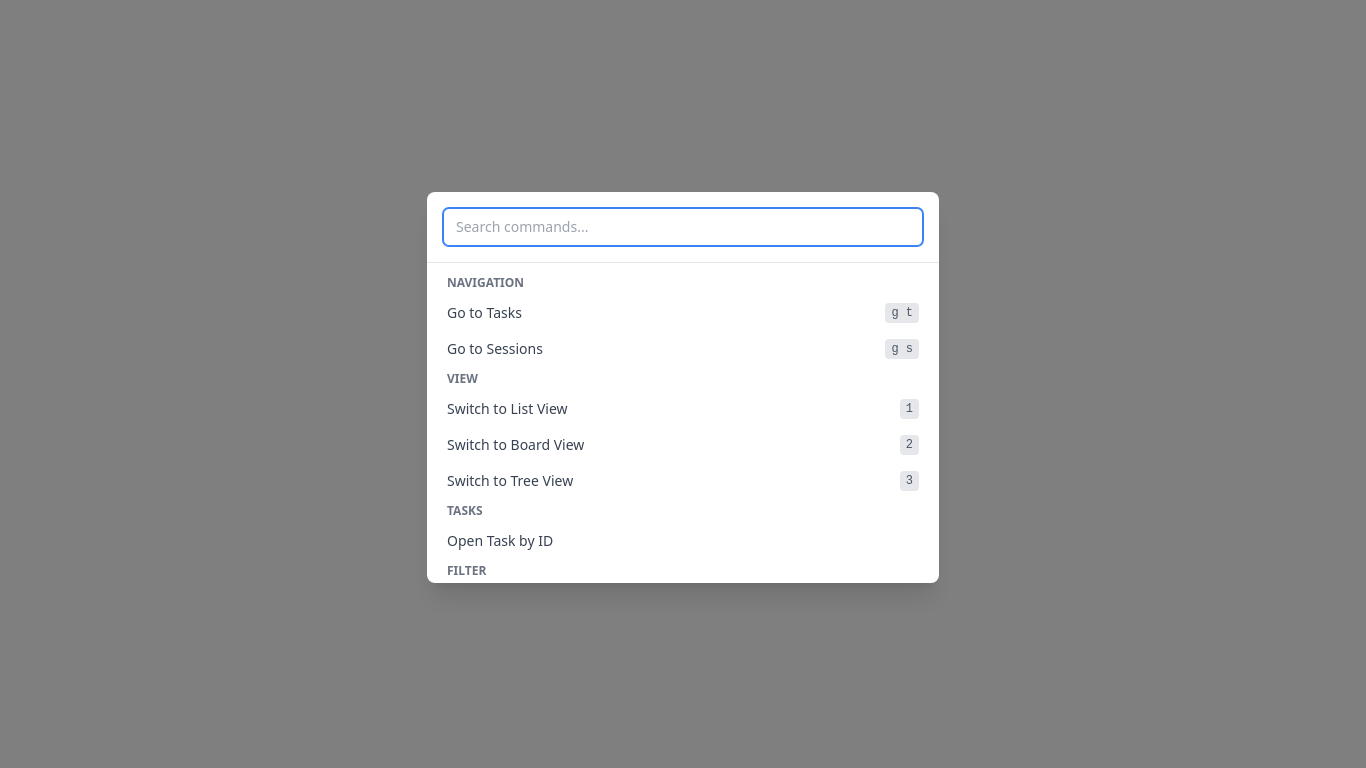
Test: CommandPalette › Fuzzy Search › shows empty state when no matches
This screenshot has width=1366, height=768.
Type "zzzznonexistent" into the dropdown.
click(683, 227); type("zzzznonexistent")  # box [443,208,923,246]
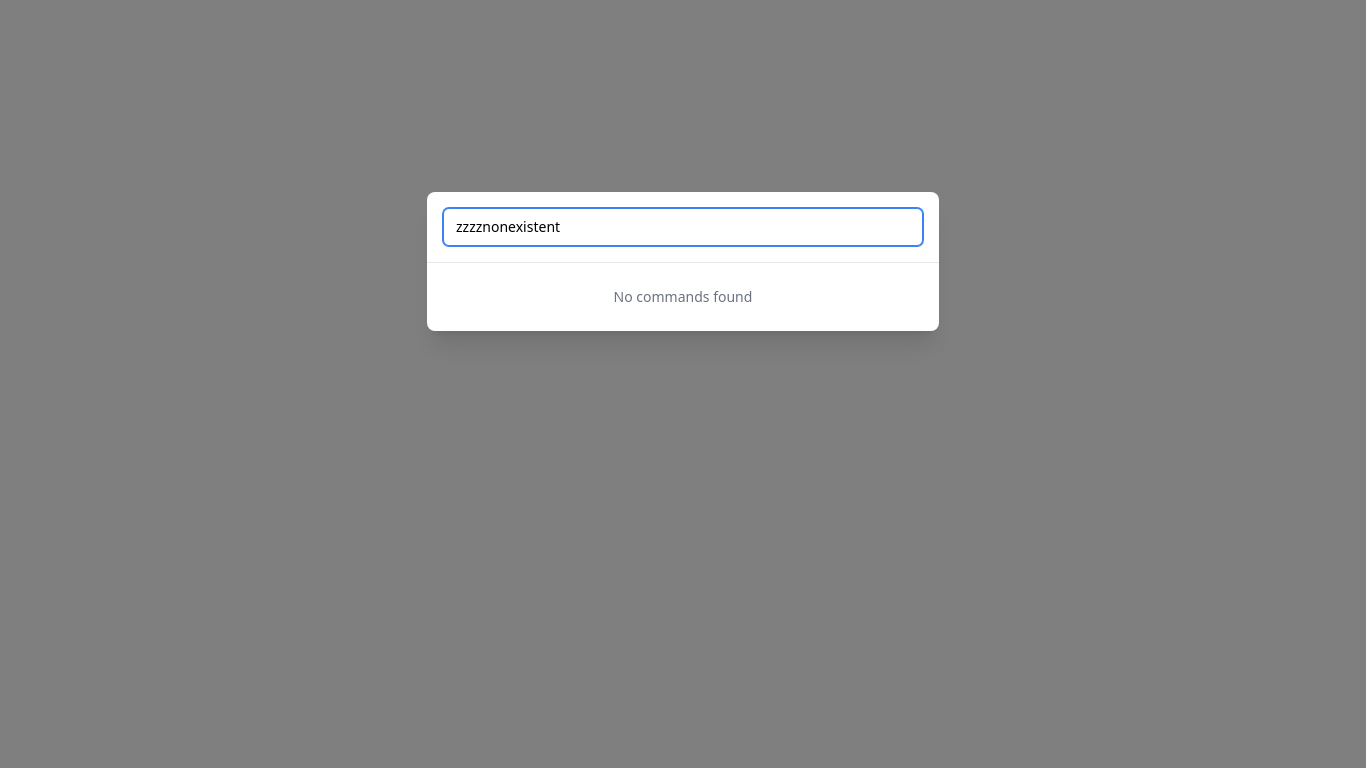
Result: the text "No commands found" is shown at [614,287,752,306]
